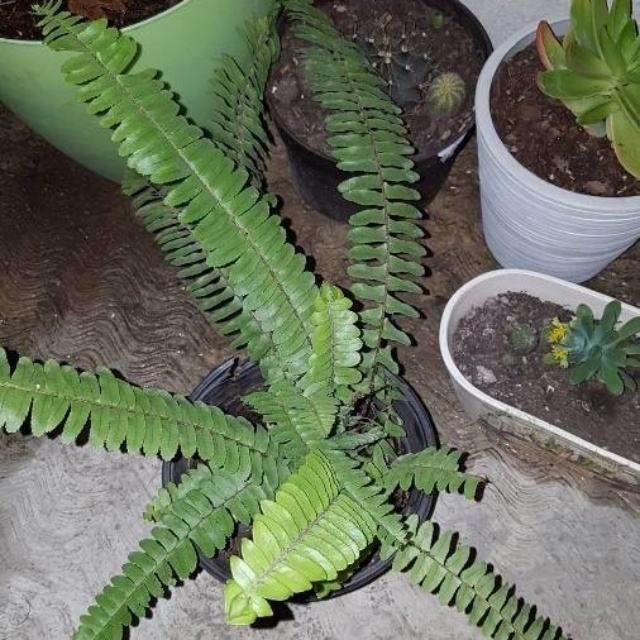obstacle: (27, 32, 524, 626), (429, 240, 632, 511), (489, 5, 612, 286)
